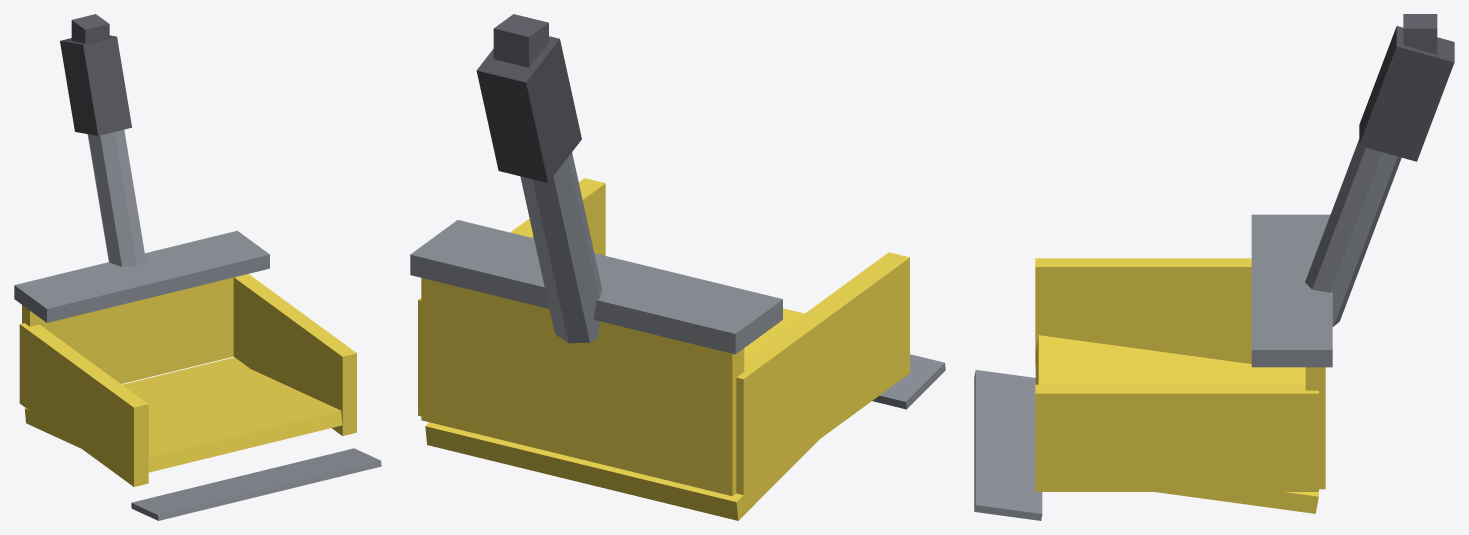
File: dustpan.glb
3 renders of one model, left to right at view 1: azimuth 30°, elevation 25°; view 2: azimuth 150°, elevation 25°; view 3: azimuth 270°, elevation 25°, orthographic. The views are drawn at different scales.
Parts seen in each view (by area): view 1: dustpan; view 2: dustpan; view 3: dustpan.
Part boxes in pixels (x1,y1,x2,y2): dustpan: (14, 14, 381, 520); dustpan: (410, 14, 945, 520); dustpan: (974, 14, 1454, 520).
Bounding box in the file's own units: 0.5 × 0.7447 × 0.75.
